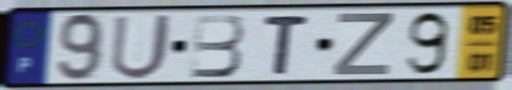9: (53, 11, 107, 85), (404, 10, 452, 77)
B: (188, 12, 247, 80)
T: (261, 13, 312, 77)
U: (107, 12, 175, 82)
Z: (330, 11, 396, 78)
